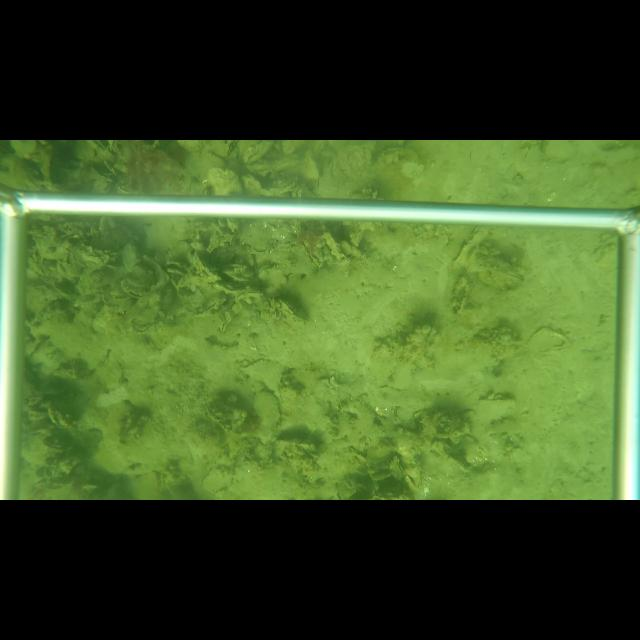Oyster-Closed: (242, 141, 276, 165), (301, 238, 322, 269), (389, 456, 405, 482), (235, 290, 263, 303), (278, 297, 297, 315), (98, 217, 107, 232)
Oyster-Indeterminate: (251, 390, 283, 430), (122, 243, 139, 271)
Oyster-Open: (121, 281, 147, 299), (162, 261, 189, 277)
